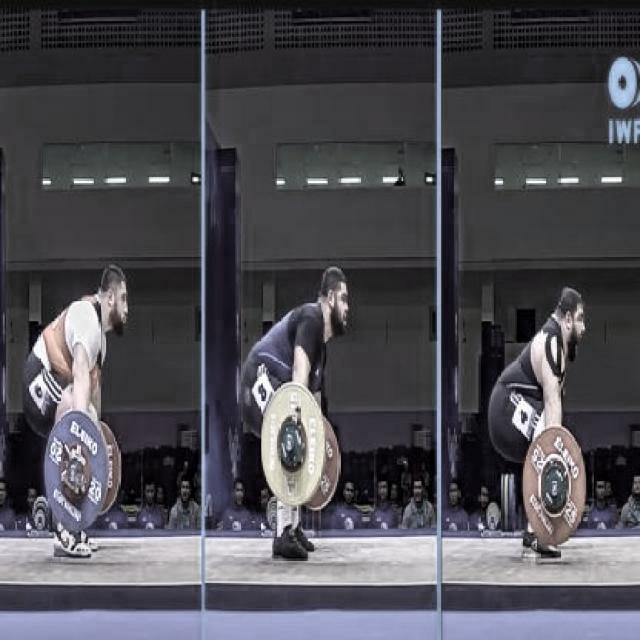barbell: (257, 382, 330, 510), (519, 422, 587, 550), (43, 407, 110, 532)
